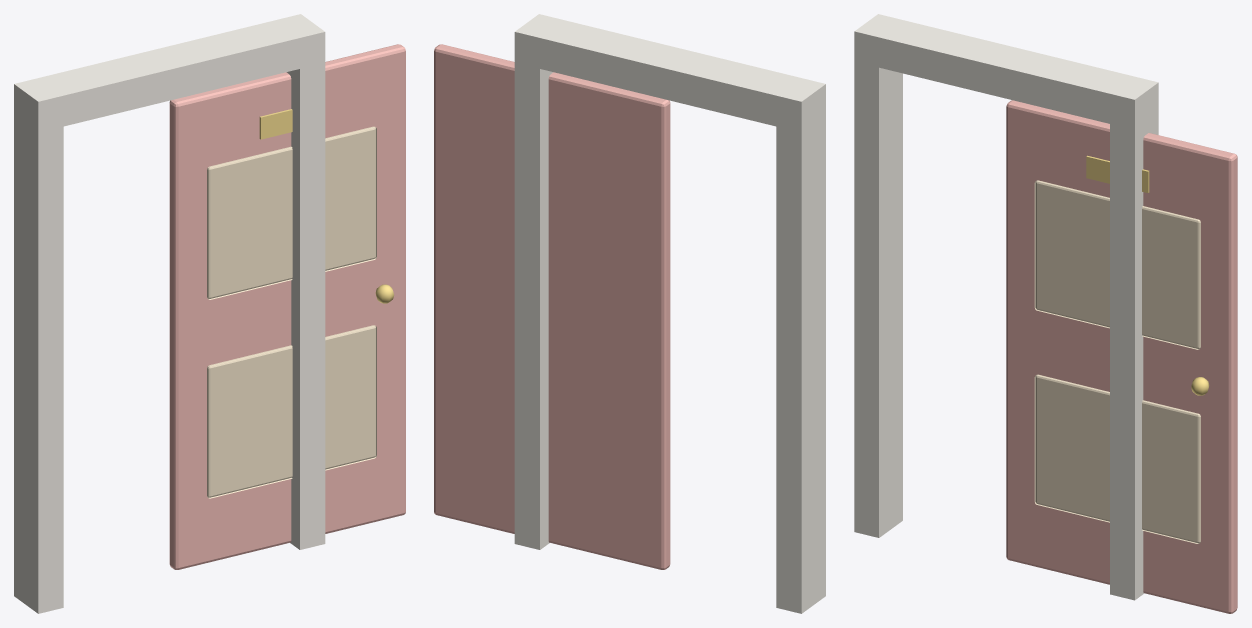
Rendered from porta_apto.glb.
The picture shows the model from 3 angles, left to right: view 1: azimuth 30°, elevation 25°; view 2: azimuth 150°, elevation 25°; view 3: azimuth 330°, elevation 25°; orthographic projection. The views are drawn at different scales.
Visible parts, largest first — view 1: Door_Leaf, porta_apto; view 2: Door_Leaf, porta_apto; view 3: Door_Leaf, porta_apto.
Part boxes in pixels (x1=…): Door_Leaf: x1=169, y1=44, x2=405, y2=569; porta_apto: x1=14, y1=14, x2=325, y2=613; Door_Leaf: x1=434, y1=44, x2=670, y2=569; porta_apto: x1=514, y1=14, x2=825, y2=613; Door_Leaf: x1=1006, y1=100, x2=1237, y2=613; porta_apto: x1=854, y1=14, x2=1158, y2=600.
Bounding box in the file's own units: 1.79 × 2.32 × 0.21.
